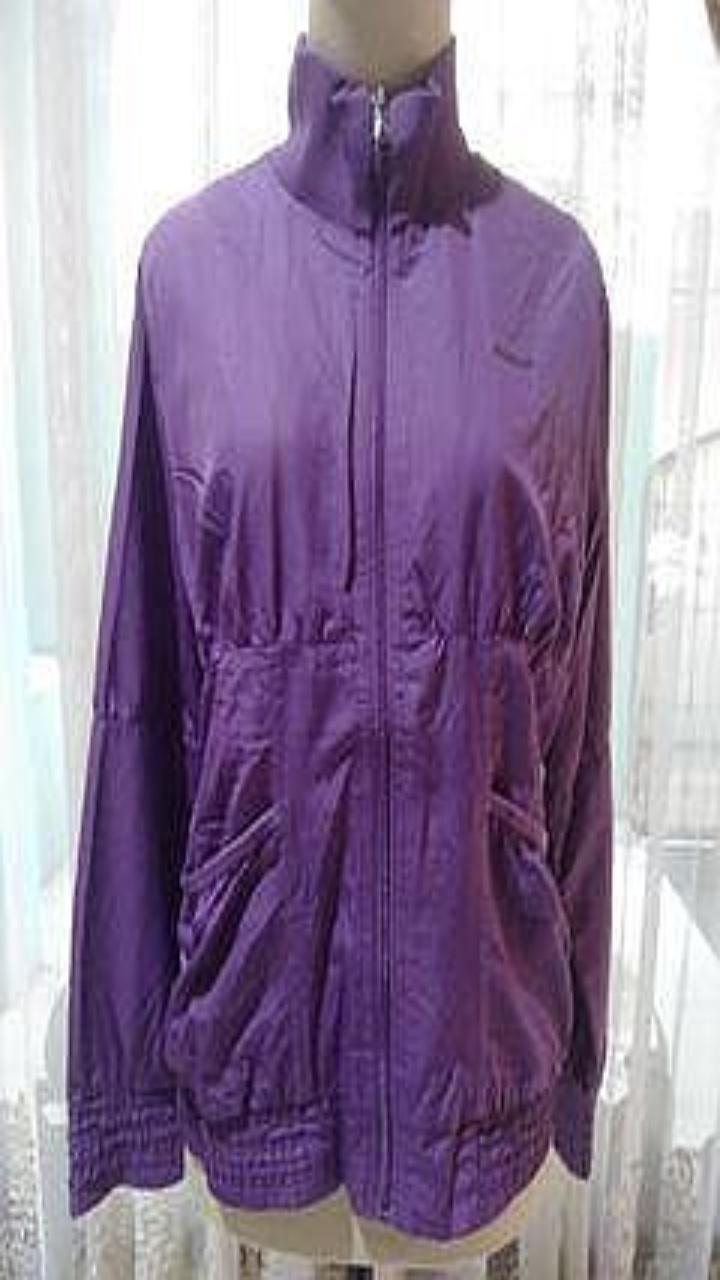Sports_Jacket: (67, 32, 610, 1239)
